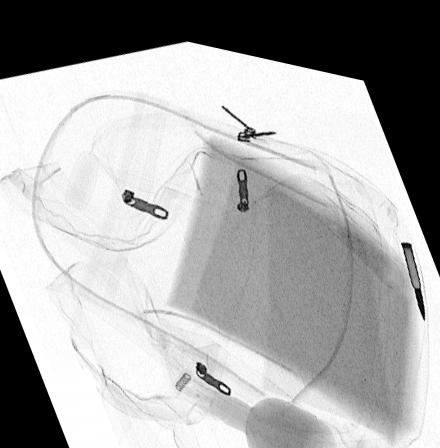Bullet: (399, 222, 425, 303)
